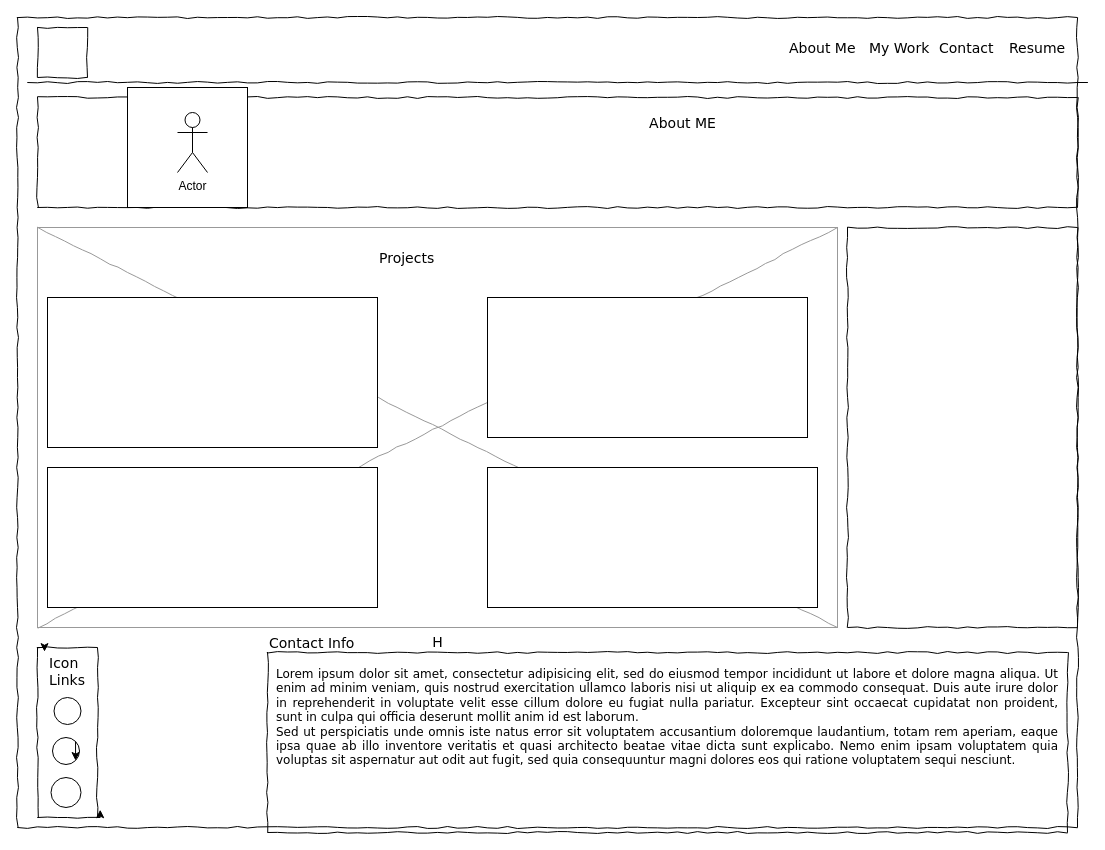
This 1105x850 diagram has some shape labels left out. Here are the shapes that lost their labels. From the top down, the centre of each, then its label:
At point (62, 52): "LOGO".
At point (962, 427): "Best Project LINK".
